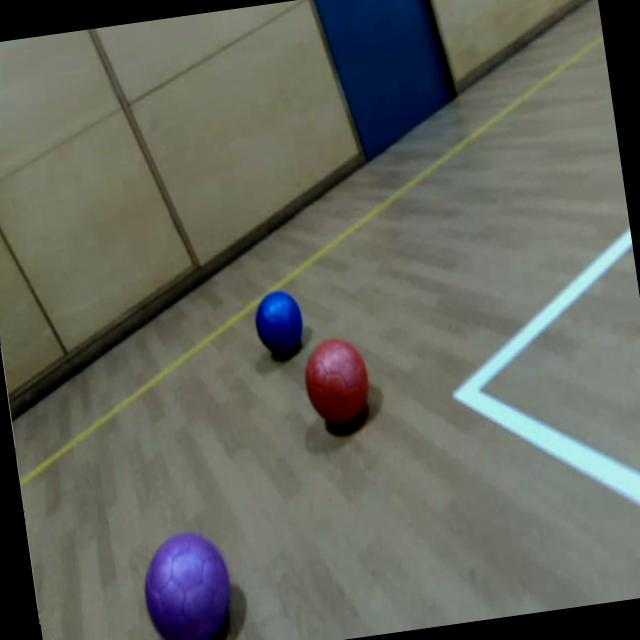blue_ball: (252, 288, 308, 357)
purple_ball: (137, 526, 237, 640)
red_ball: (301, 332, 374, 429)
